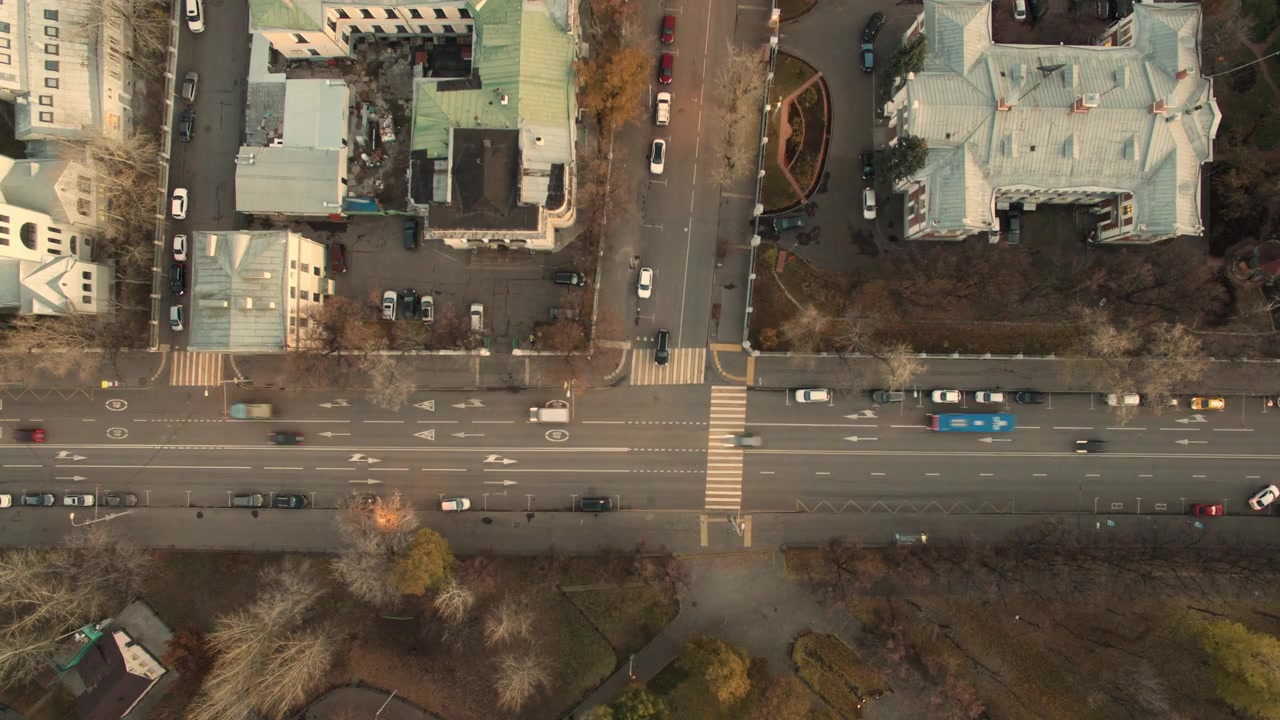car: (923, 411, 1018, 436), (524, 404, 573, 427), (1248, 479, 1280, 514), (182, 1, 209, 39), (769, 211, 809, 236), (859, 8, 889, 41), (1102, 388, 1143, 412), (226, 402, 277, 421), (650, 327, 673, 367), (647, 136, 668, 177), (794, 386, 835, 407), (653, 88, 673, 129), (725, 432, 766, 452), (1187, 393, 1228, 413), (272, 492, 313, 512), (175, 111, 199, 145), (168, 186, 191, 221), (101, 491, 141, 511), (266, 428, 306, 448), (181, 68, 202, 106), (12, 427, 51, 447), (1072, 437, 1110, 457), (437, 494, 475, 514), (328, 243, 350, 277), (656, 49, 676, 86), (551, 269, 588, 289), (658, 11, 678, 47), (166, 302, 187, 336), (1003, 214, 1024, 248), (230, 491, 267, 510), (577, 494, 614, 513), (22, 491, 57, 511), (169, 232, 192, 262), (636, 265, 654, 302), (928, 387, 965, 405), (861, 185, 879, 221), (400, 287, 418, 323), (1014, 388, 1048, 407), (419, 292, 438, 326), (1188, 501, 1228, 517), (62, 492, 97, 510), (167, 264, 185, 299), (468, 301, 486, 336), (871, 388, 908, 405), (381, 288, 398, 325), (973, 388, 1007, 406), (858, 42, 876, 74), (403, 221, 419, 253), (1010, 1, 1031, 24)
